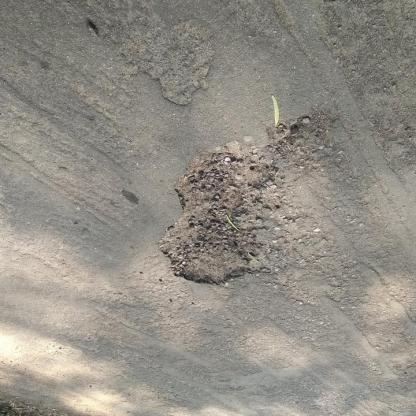pothole: (157, 142, 277, 288)
